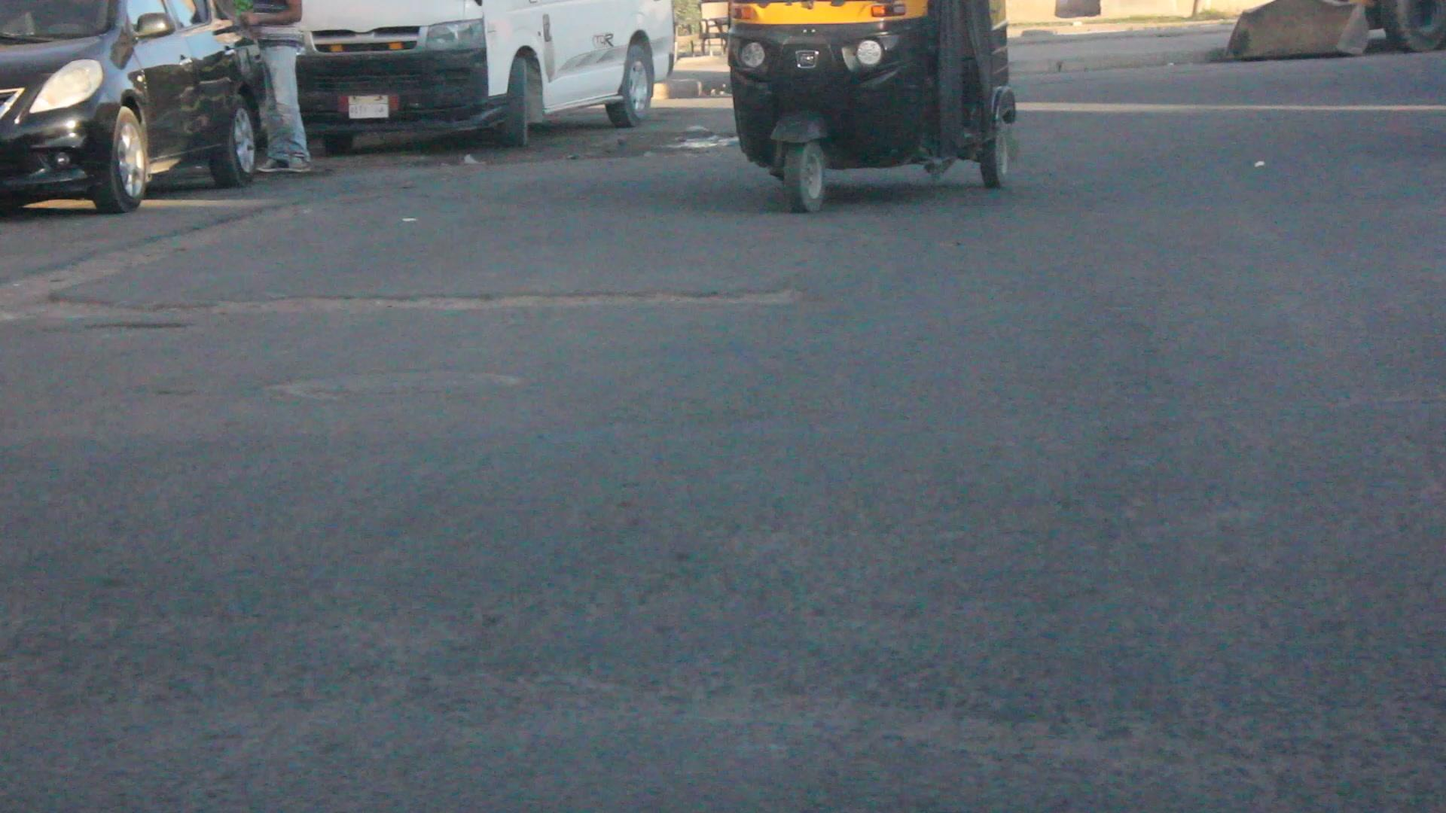Bump: (0, 422, 1446, 723)
